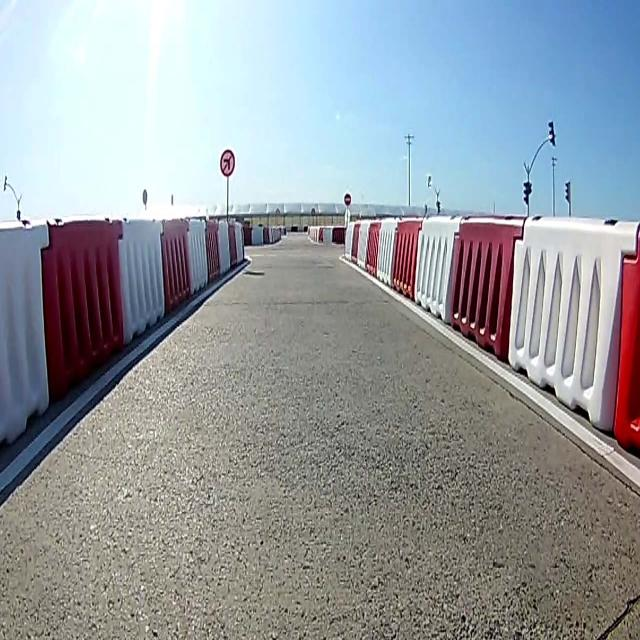girisyok: (344, 191, 352, 205)
soladonulmez: (221, 149, 235, 179)
